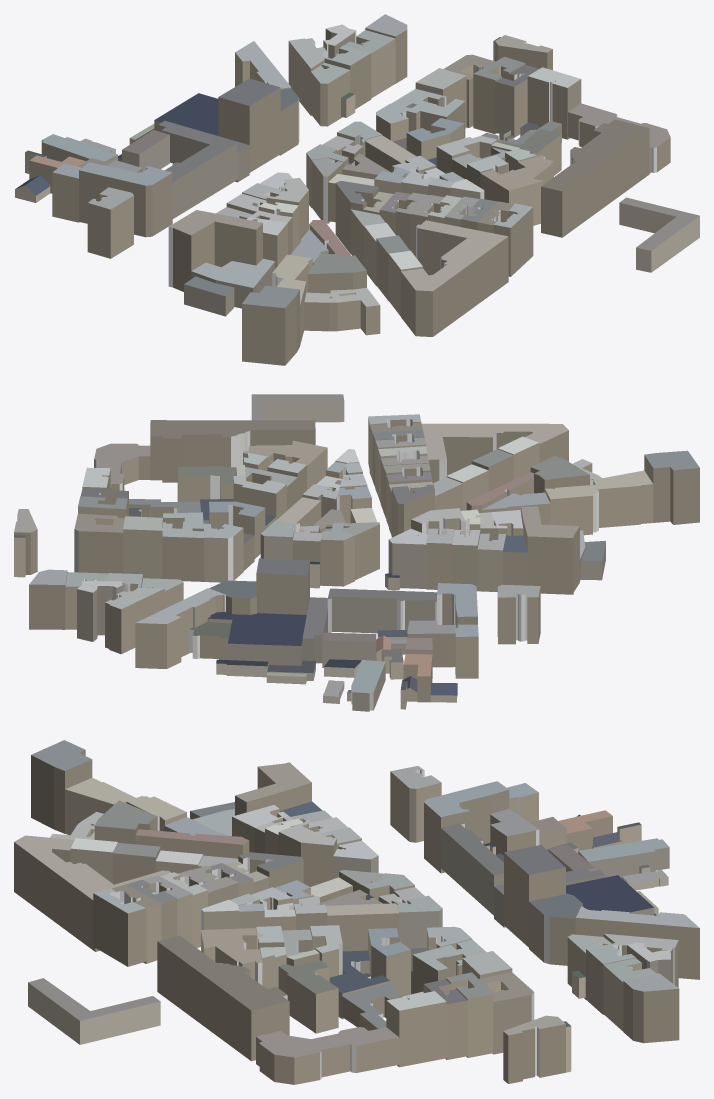
3 views of the same model, one above another, from view 1: azimuth 30°, elevation 25°; view 2: azimuth 150°, elevation 25°; view 3: azimuth 270°, elevation 25° (orthographic). The views are drawn at different scales.
Visible parts, largest first — view 1: tuile; view 2: tuile; view 3: tuile.
Part boxes in pixels (x1,y1,x2,y2): tuile: (15,14,699,365); tuile: (14,394,699,711); tuile: (14,740,699,1084).
Bounding box in the file's own units: 276 × 37.14 × 284.
